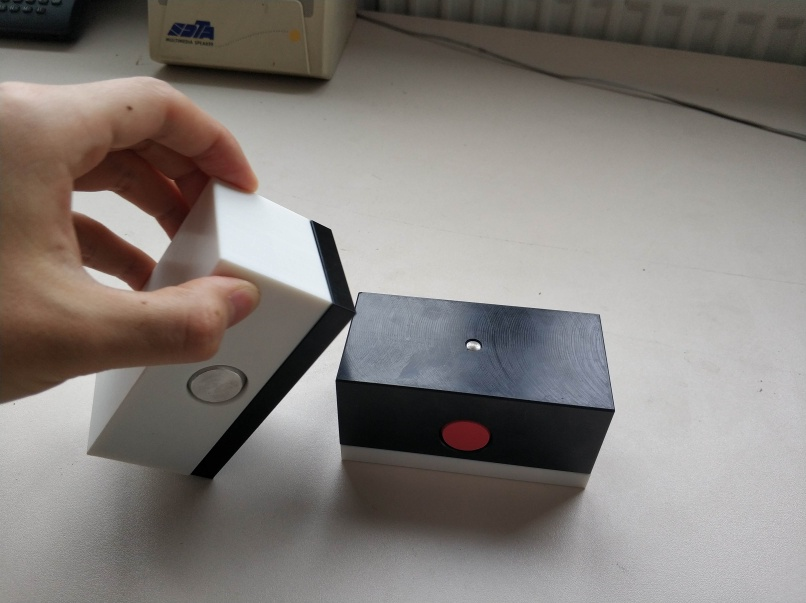black+white+silver: (84, 177, 358, 481)
white+black+red: (333, 290, 619, 489)
